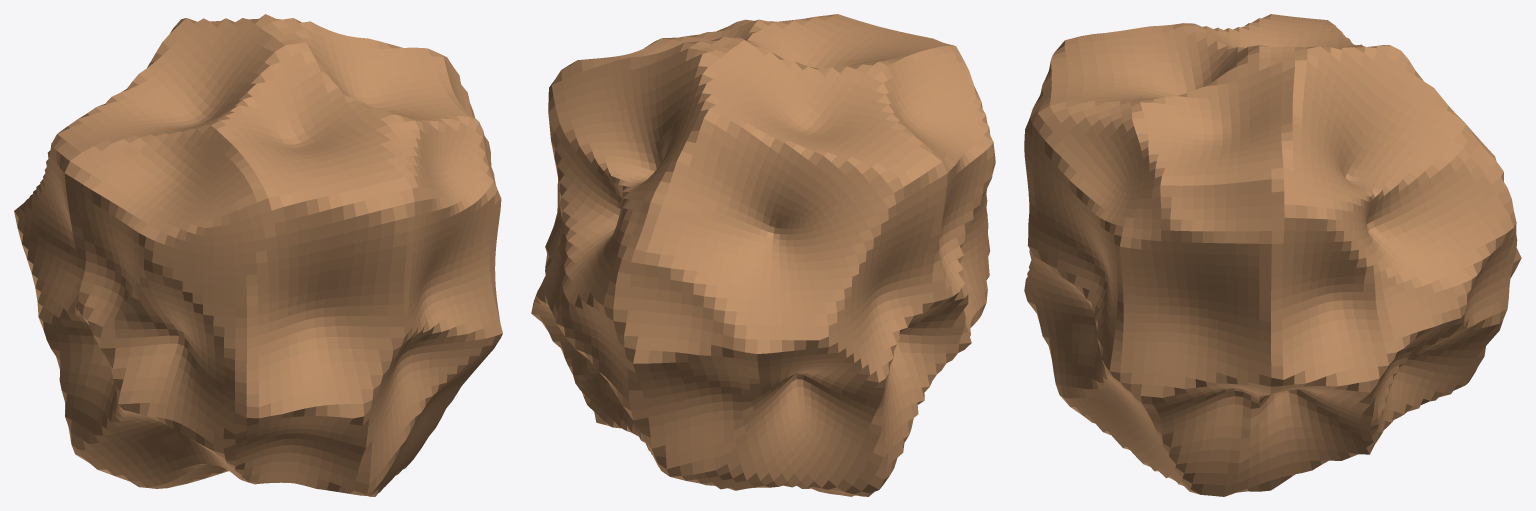
The model's file is Rock-0.glb.
The picture shows the model from 3 angles, left to right: view 1: azimuth 30°, elevation 25°; view 2: azimuth 150°, elevation 25°; view 3: azimuth 270°, elevation 25°; orthographic projection. The views are drawn at different scales.
Parts seen in each view (by area): view 1: Cube; view 2: Cube; view 3: Cube.
Boxes of the visible parts, box(x1,y1,x2,y2) form: Cube: box(14, 14, 502, 496); Cube: box(531, 14, 995, 496); Cube: box(1024, 14, 1521, 496).
Size of the model in its own units: 2.66 by 2.71 by 2.91.
